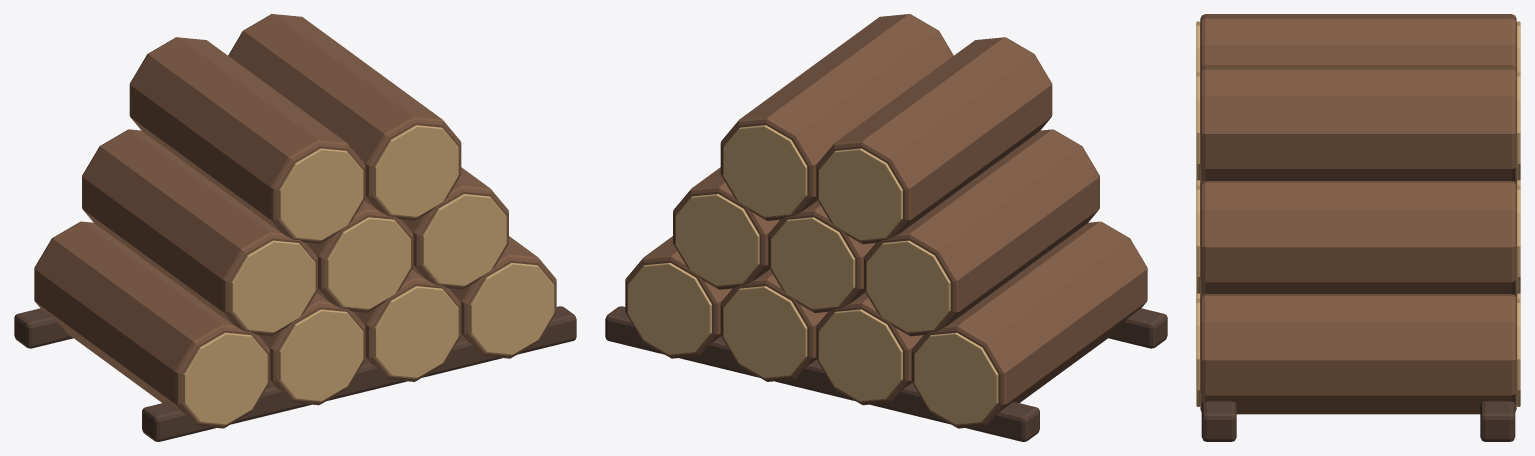
Rendered from firewood_stack.glb.
3 views of the same model, side by side, from view 1: azimuth 30°, elevation 25°; view 2: azimuth 150°, elevation 25°; view 3: azimuth 270°, elevation 25° (orthographic). The views are drawn at different scales.
Visible parts, largest first — view 1: firewood_stack; view 2: firewood_stack; view 3: firewood_stack.
Part boxes in pixels (x1,y1,x2,y2): firewood_stack: (14, 14, 576, 441); firewood_stack: (605, 14, 1167, 441); firewood_stack: (1196, 14, 1520, 441).
Size of the model in its own units: 0.84 by 0.504 by 0.512.
